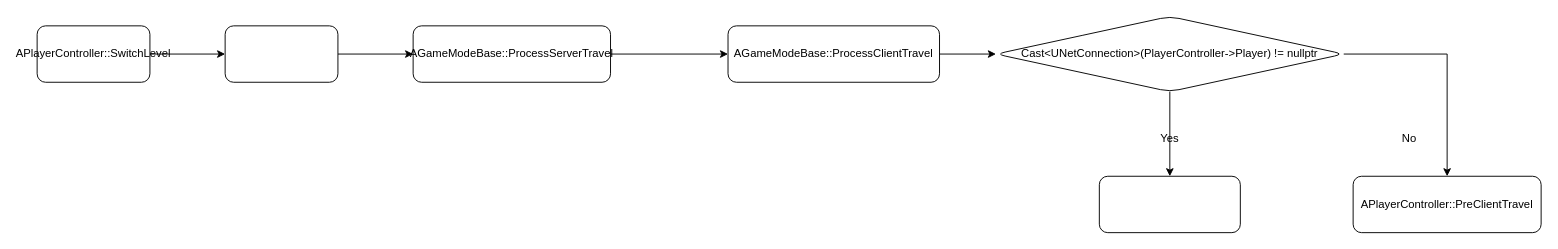
The diagram is 1558 pixels wide and 249 high, and some of its shapes have lost their labels. The centre of each missing label's shape, as x and y in pixels:
APlayerController::ClientTravel: the point at 1169,204
UWorld::ServerTravel: the point at 281,53
